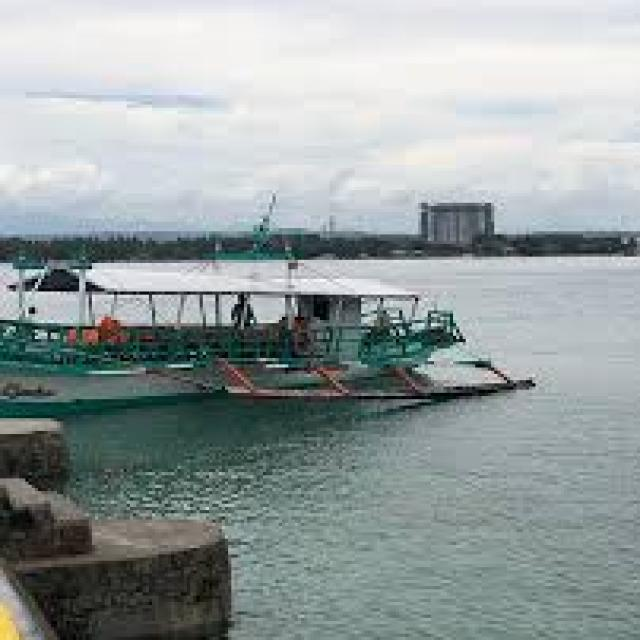houseboat: (0, 193, 516, 421)
